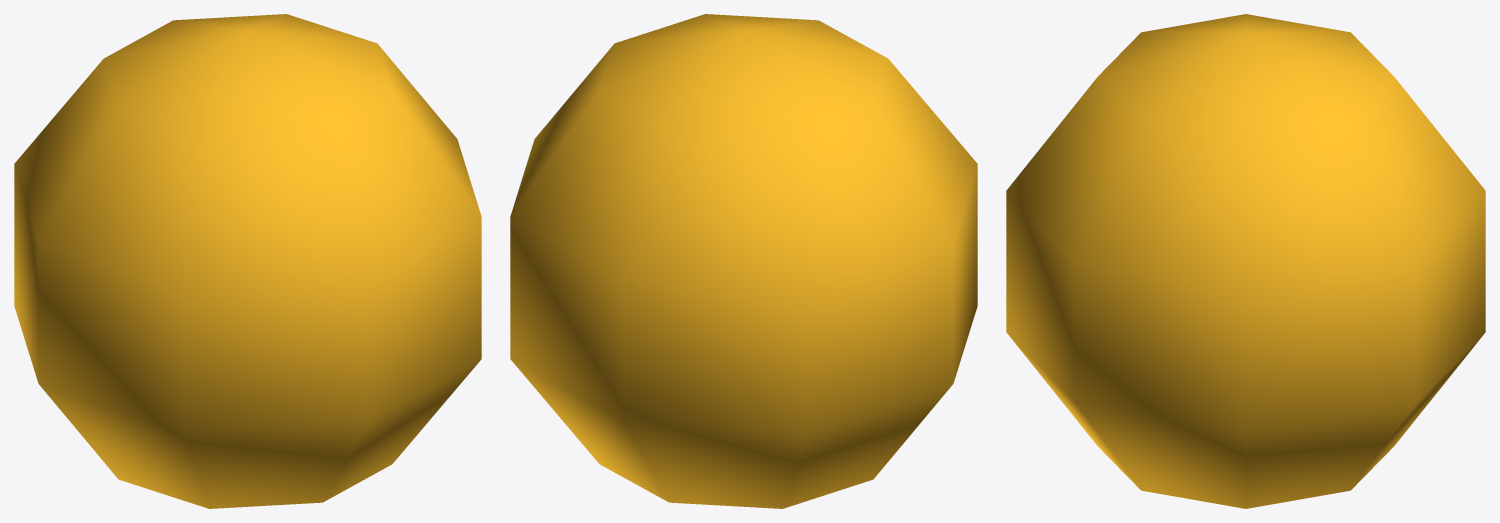
The model's file is bne_afl_yellow.dae.
3 renders of one model, left to right at view 1: azimuth 30°, elevation 25°; view 2: azimuth 150°, elevation 25°; view 3: azimuth 270°, elevation 25°, orthographic.
Visible parts, largest first — view 1: glow2; view 2: glow2; view 3: glow2.
Part boxes in pixels (bbox=[...]): glow2: bbox=[14, 14, 481, 508]; glow2: bbox=[510, 14, 977, 508]; glow2: bbox=[1006, 14, 1485, 508].
Bounding box in the file's own units: 4.79 × 4.79 × 5.04.
